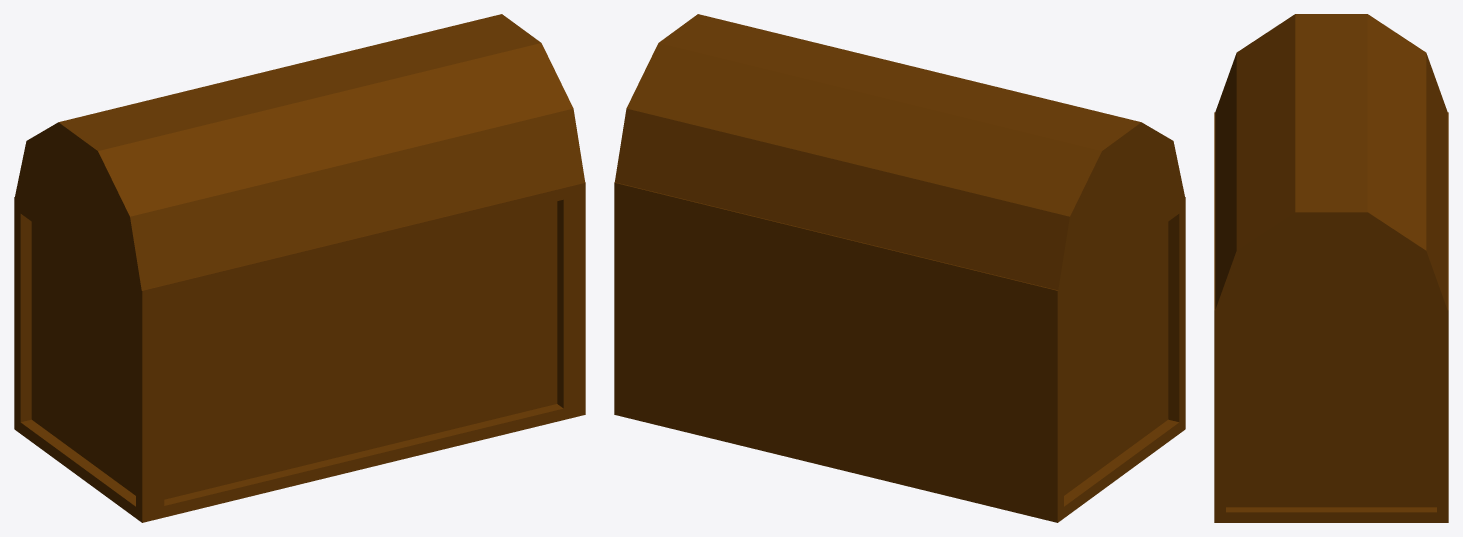
Rendered from chest3.fbx.
3 renders of one model, left to right at view 1: azimuth 30°, elevation 25°; view 2: azimuth 150°, elevation 25°; view 3: azimuth 270°, elevation 25°, orthographic. The views are drawn at different scales.
Visible parts, largest first — view 1: Cylinder.069, Cylinder; view 2: Cylinder.069, Cylinder; view 3: Cylinder, Cylinder.069.
Boxes of the visible parts, <box> form: Cylinder.069: <box>14,182,585,522</box>; Cylinder: <box>14,14,584,293</box>; Cylinder.069: <box>614,182,1185,522</box>; Cylinder: <box>615,14,1185,290</box>; Cylinder: <box>1215,14,1448,313</box>; Cylinder.069: <box>1214,112,1448,522</box>.
Size of the model in its own units: 200 by 146 by 100.
